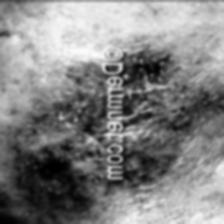Unclassified: (17, 25, 104, 216), (127, 46, 214, 196)
